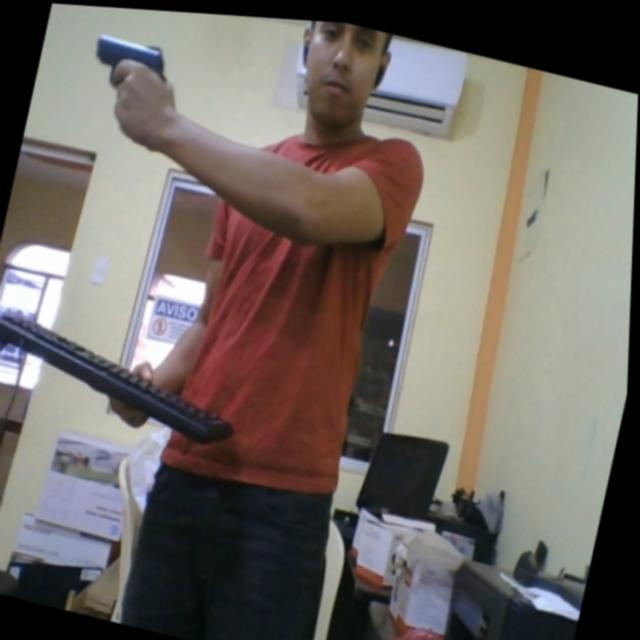weapon: (87, 24, 175, 100)
